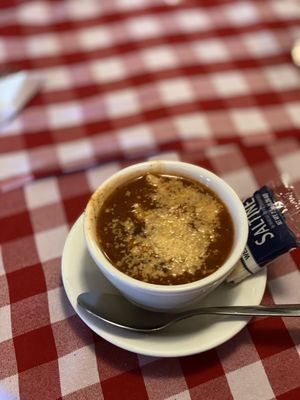sushi: (83, 161, 250, 312)
